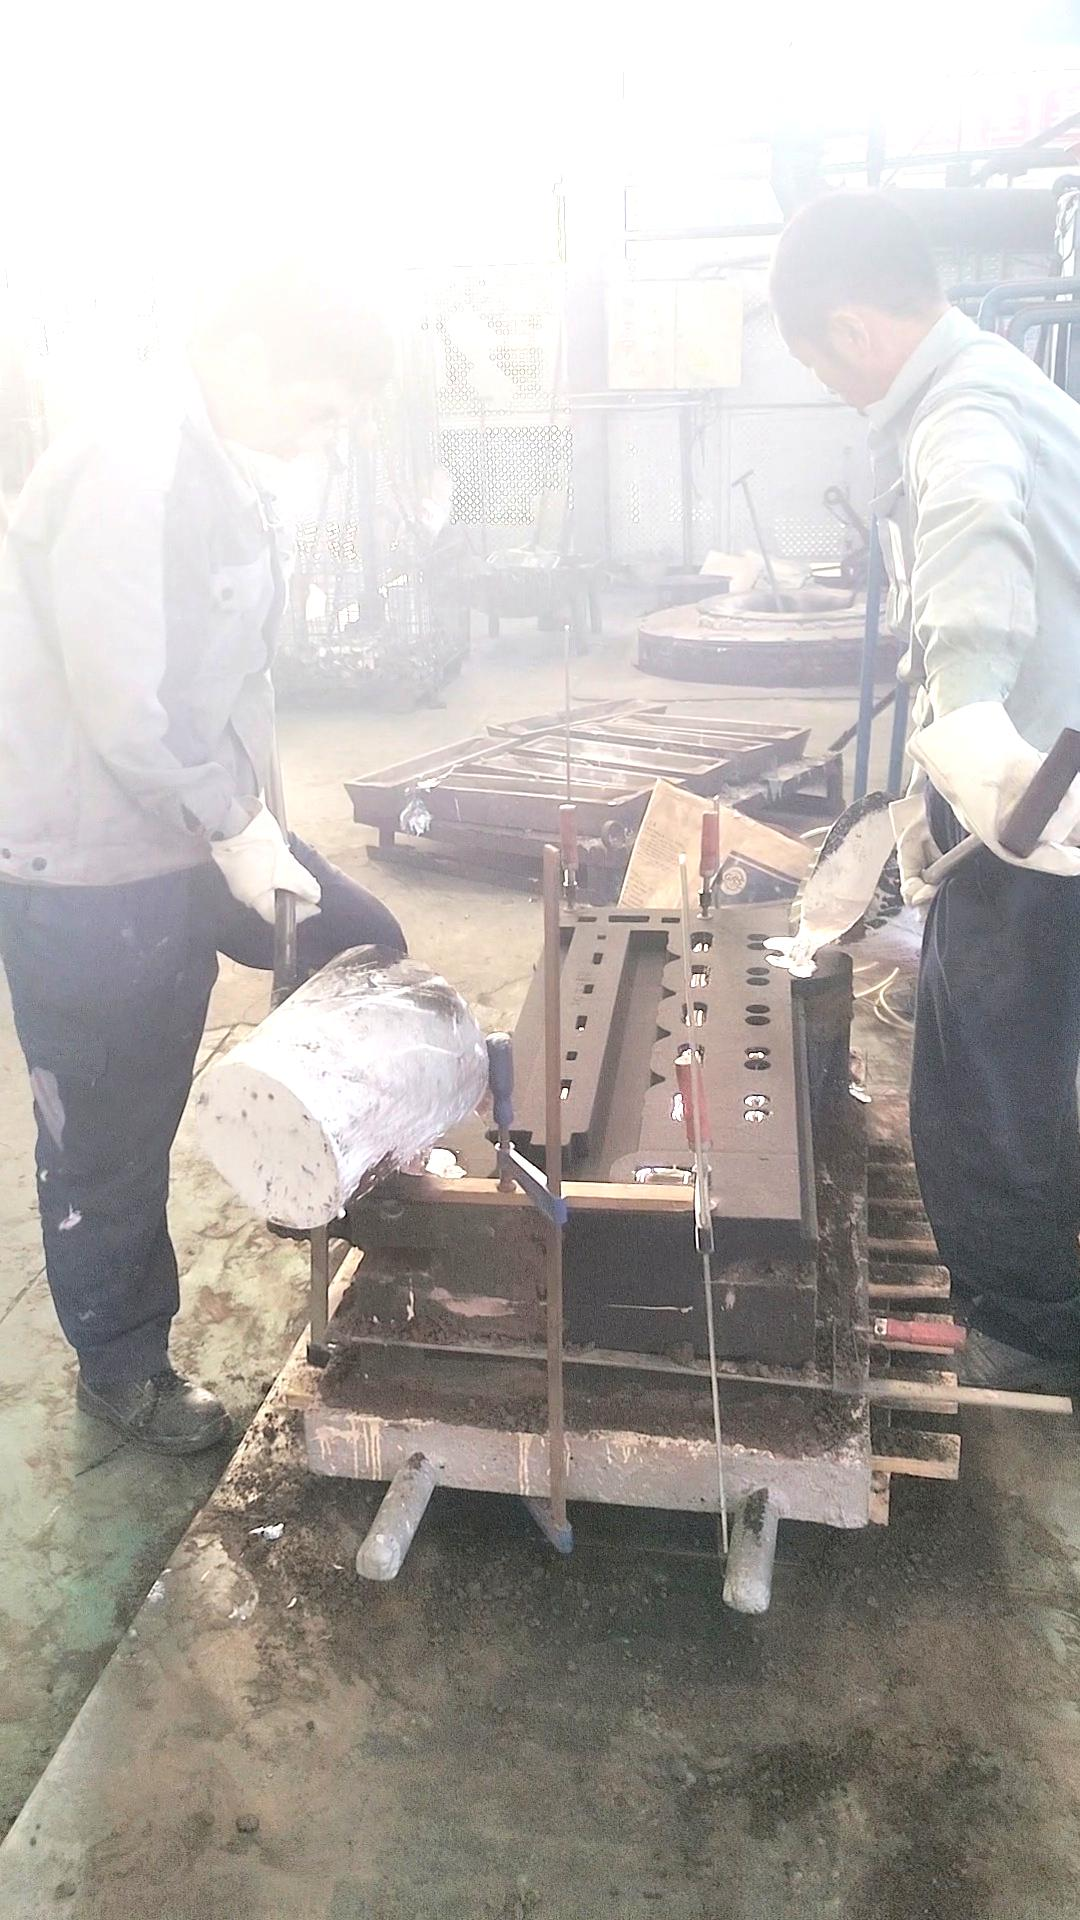pouring hole: (393, 1146, 458, 1178), (766, 952, 824, 973)
